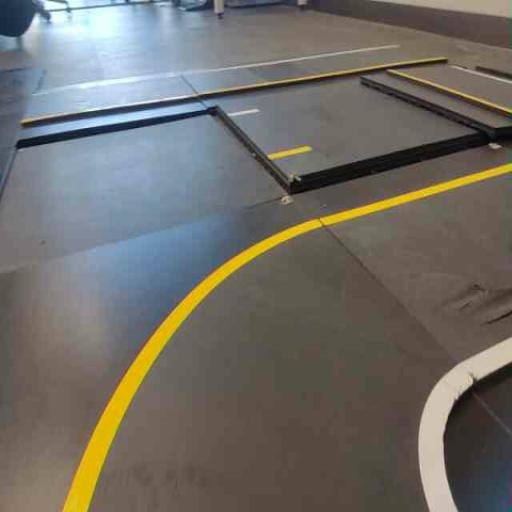right: (55, 201, 511, 511)
